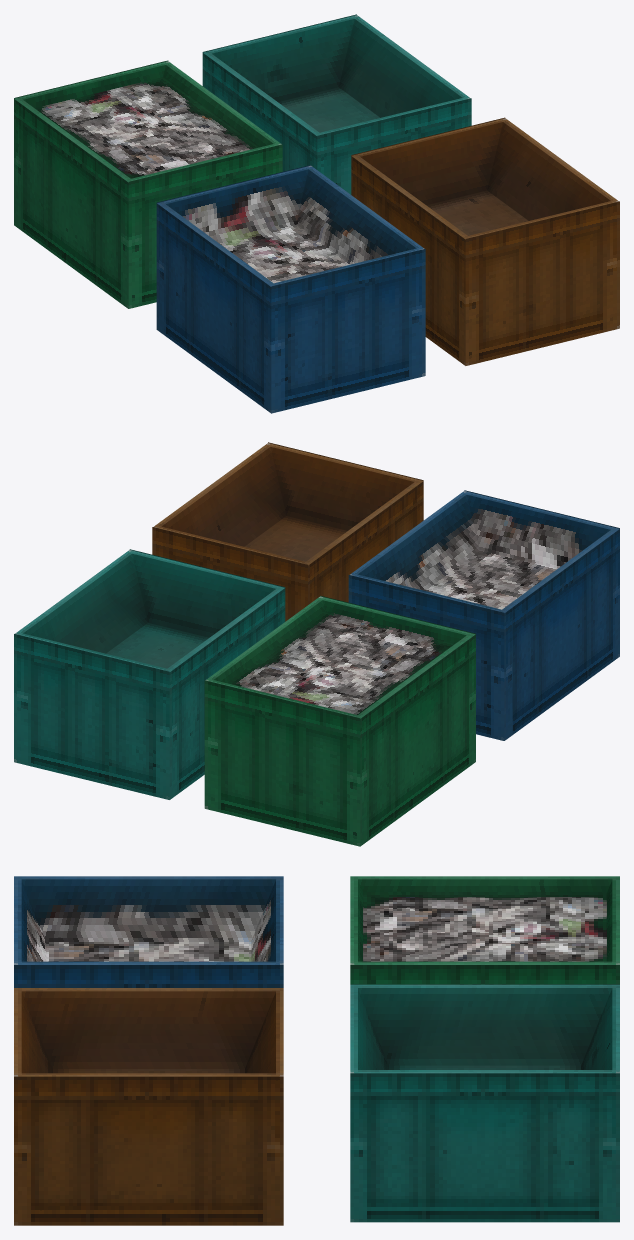
Rendered from lowpoly_crates.glb.
3 views of the same model, one above another, from view 1: azimuth 30°, elevation 25°; view 2: azimuth 150°, elevation 25°; view 3: azimuth 270°, elevation 25° (orthographic). The views are drawn at different scales.
Parts seen in each view (by area): view 1: Crate03, Crate02, Crate04, Crate01; view 2: Crate04, Crate01, Crate03, Crate02; view 3: Crate01, Crate02, Crate03, Crate04.
Boxes of the visible parts, bbox=[...] form: Crate03: bbox=[156, 165, 425, 413]; Crate02: bbox=[351, 117, 619, 365]; Crate04: bbox=[14, 60, 282, 308]; Crate01: bbox=[202, 14, 471, 194]; Crate04: bbox=[204, 595, 475, 846]; Crate01: bbox=[14, 549, 285, 799]; Crate03: bbox=[348, 490, 619, 740]; Crate02: bbox=[152, 442, 423, 621]; Crate01: bbox=[350, 984, 619, 1222]; Crate02: bbox=[14, 988, 283, 1225]; Crate03: bbox=[14, 876, 283, 987]; Crate04: bbox=[350, 876, 619, 984].
Bounding box in the file's own units: 0.9796 × 0.3416 × 1.25.
Materials: 2 (2 with a texture image).
